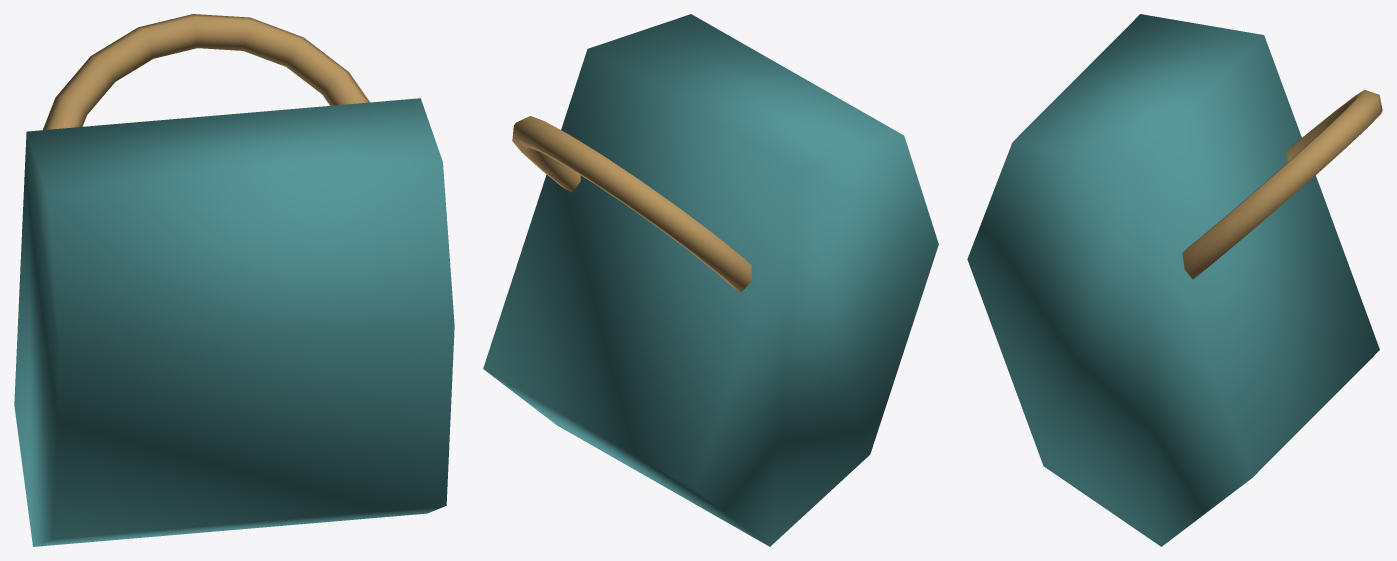
Rendered from shoulder-shell-r.glb.
3 renders of one model, left to right at view 1: azimuth 30°, elevation 25°; view 2: azimuth 150°, elevation 25°; view 3: azimuth 270°, elevation 25°, orthographic. The views are drawn at different scales.
Visible parts, largest first — view 1: shoulder-shell-r; view 2: shoulder-shell-r; view 3: shoulder-shell-r.
Boxes of the visible parts, x1,y1,x2,y2 form: shoulder-shell-r: (14, 14, 454, 546); shoulder-shell-r: (483, 14, 938, 546); shoulder-shell-r: (967, 14, 1382, 546).
Bounding box in the file's own units: 8.89 × 8.83 × 8.39.
